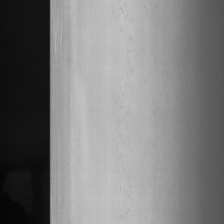silk_spot: (114, 0, 142, 184)
